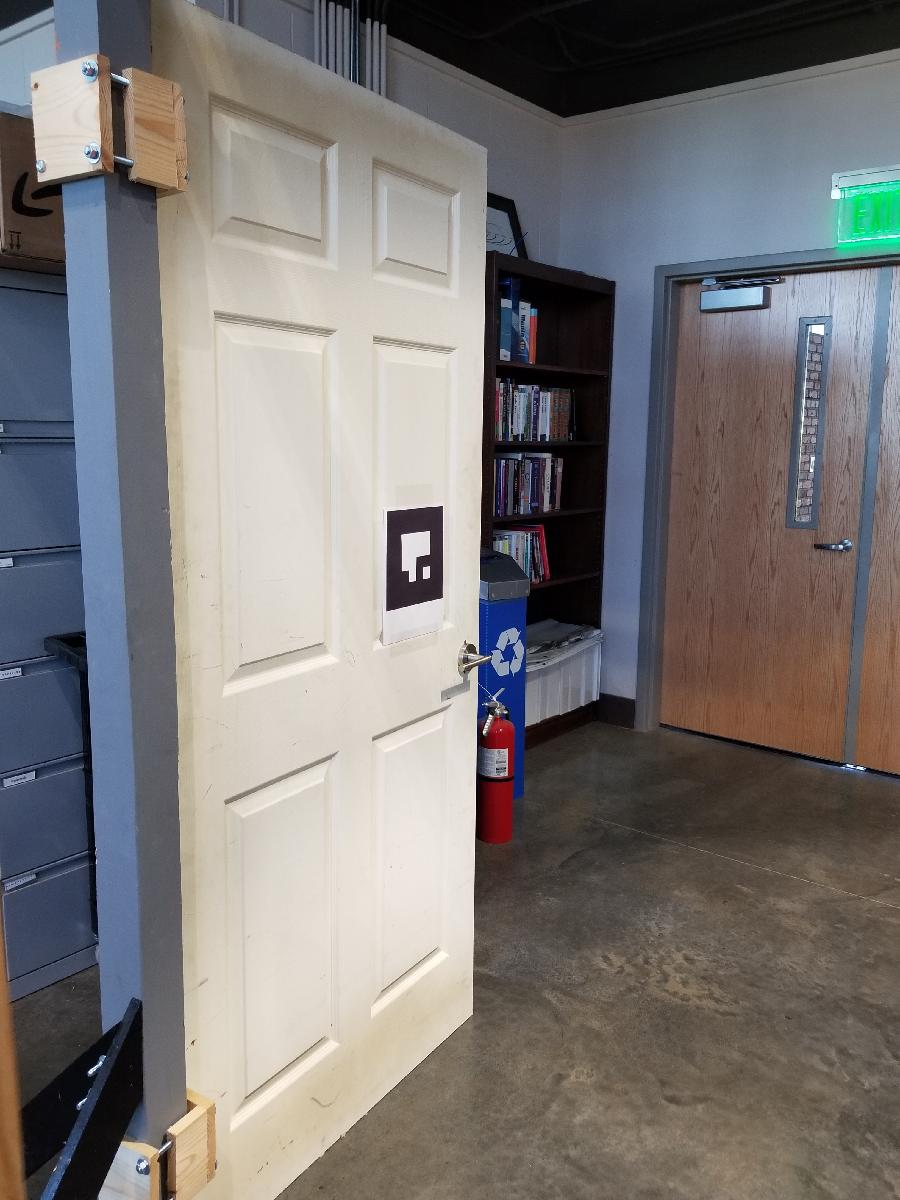door: (135, 1, 487, 1200)
doorHandle: (456, 638, 493, 675)
